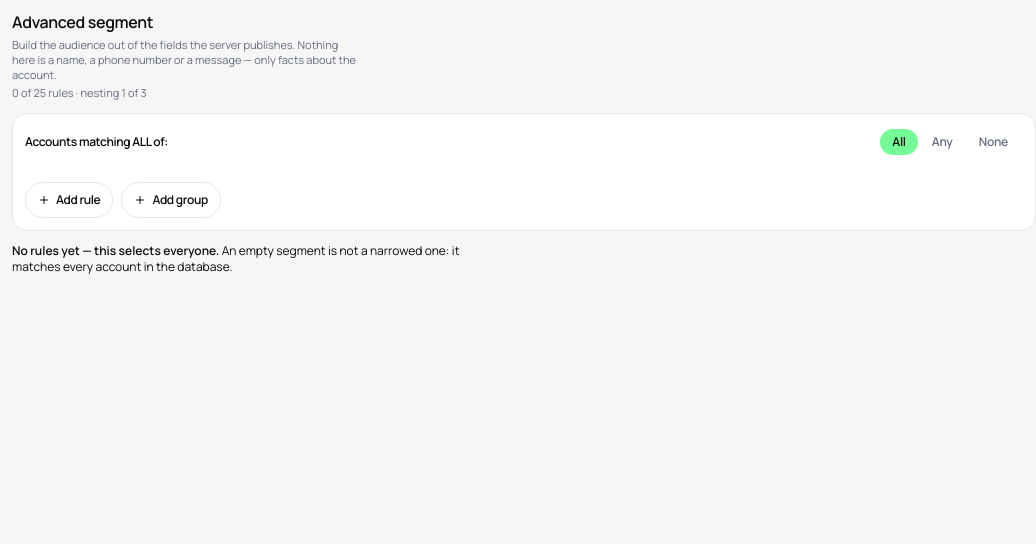
Test: SegmentBuilder — what the registry is allowed to decide › swaps the value editor with the kind, so a date field never offers a number box
Click the button "Add rule". click: (69, 200)
box: [25,182,113,218]
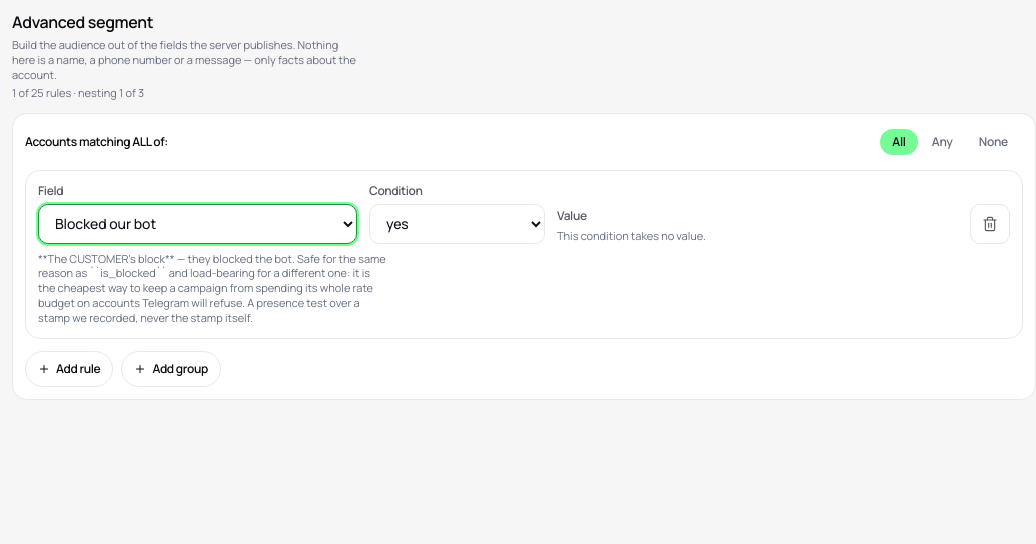
Select "Orders" in the dropdown labelled "Field". click: (198, 224)
box: [38,204,357,244]
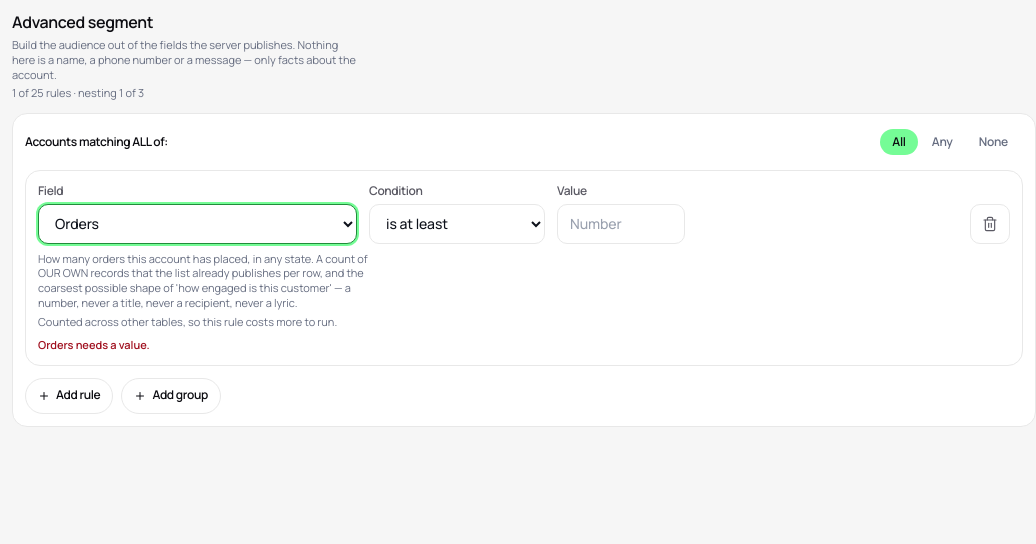
Select "First contact" in the dropdown labelled "Field". click: (198, 224)
box: [38,204,357,244]
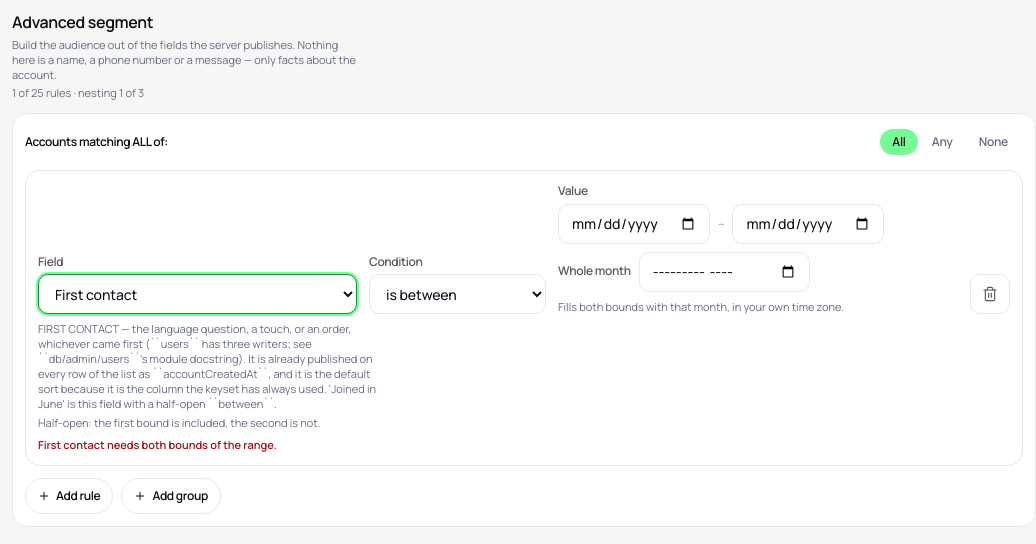
Now the number field labelled "Rule 1: Number" is gone
